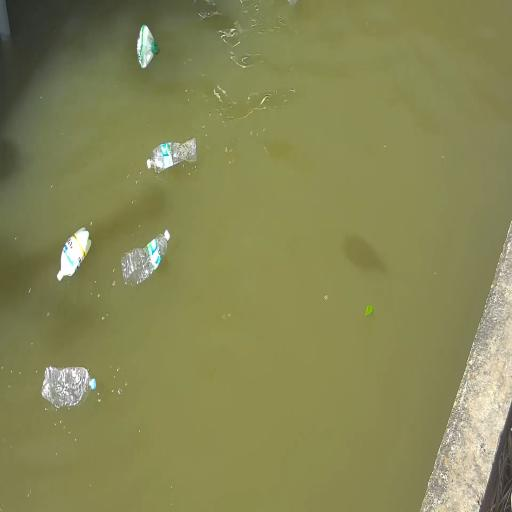plastic: (122, 230, 170, 284), (42, 367, 96, 408), (57, 227, 91, 281), (147, 138, 196, 172), (137, 25, 159, 68)
